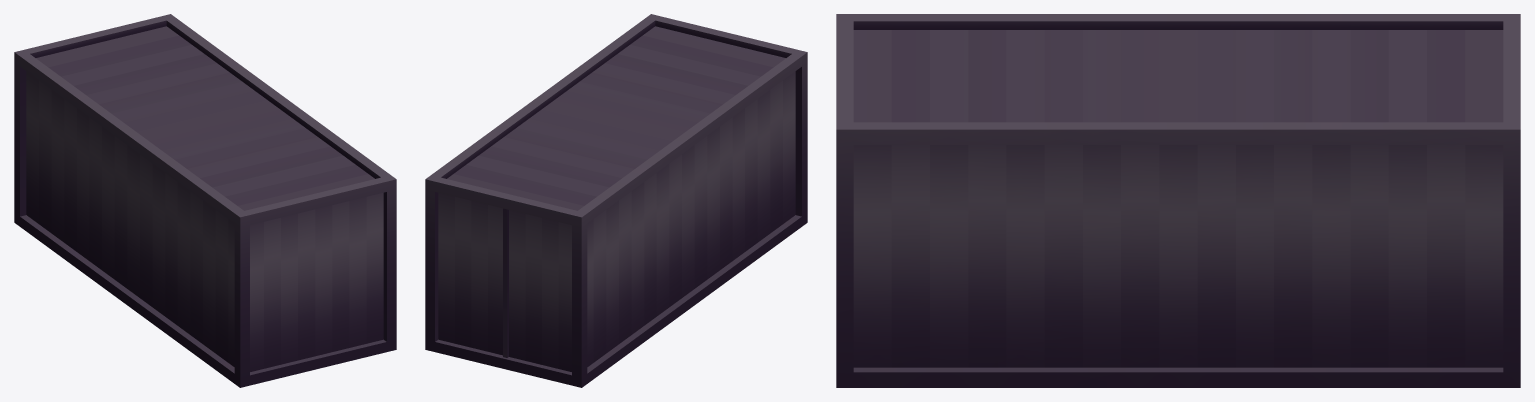
File: Container_1F.fbx
3 views of the same model, side by side, from view 1: azimuth 30°, elevation 25°; view 2: azimuth 150°, elevation 25°; view 3: azimuth 270°, elevation 25° (orthographic). The views are drawn at different scales.
Parts seen in each view (by area): view 1: Container_1F; view 2: Container_1F; view 3: Container_1F.
Part boxes in pixels (x1,y1,x2,y2): Container_1F: [14, 14, 396, 387]; Container_1F: [425, 14, 807, 387]; Container_1F: [836, 14, 1520, 387].
Size of the model in its own units: 2.4 by 2.5 by 6.
